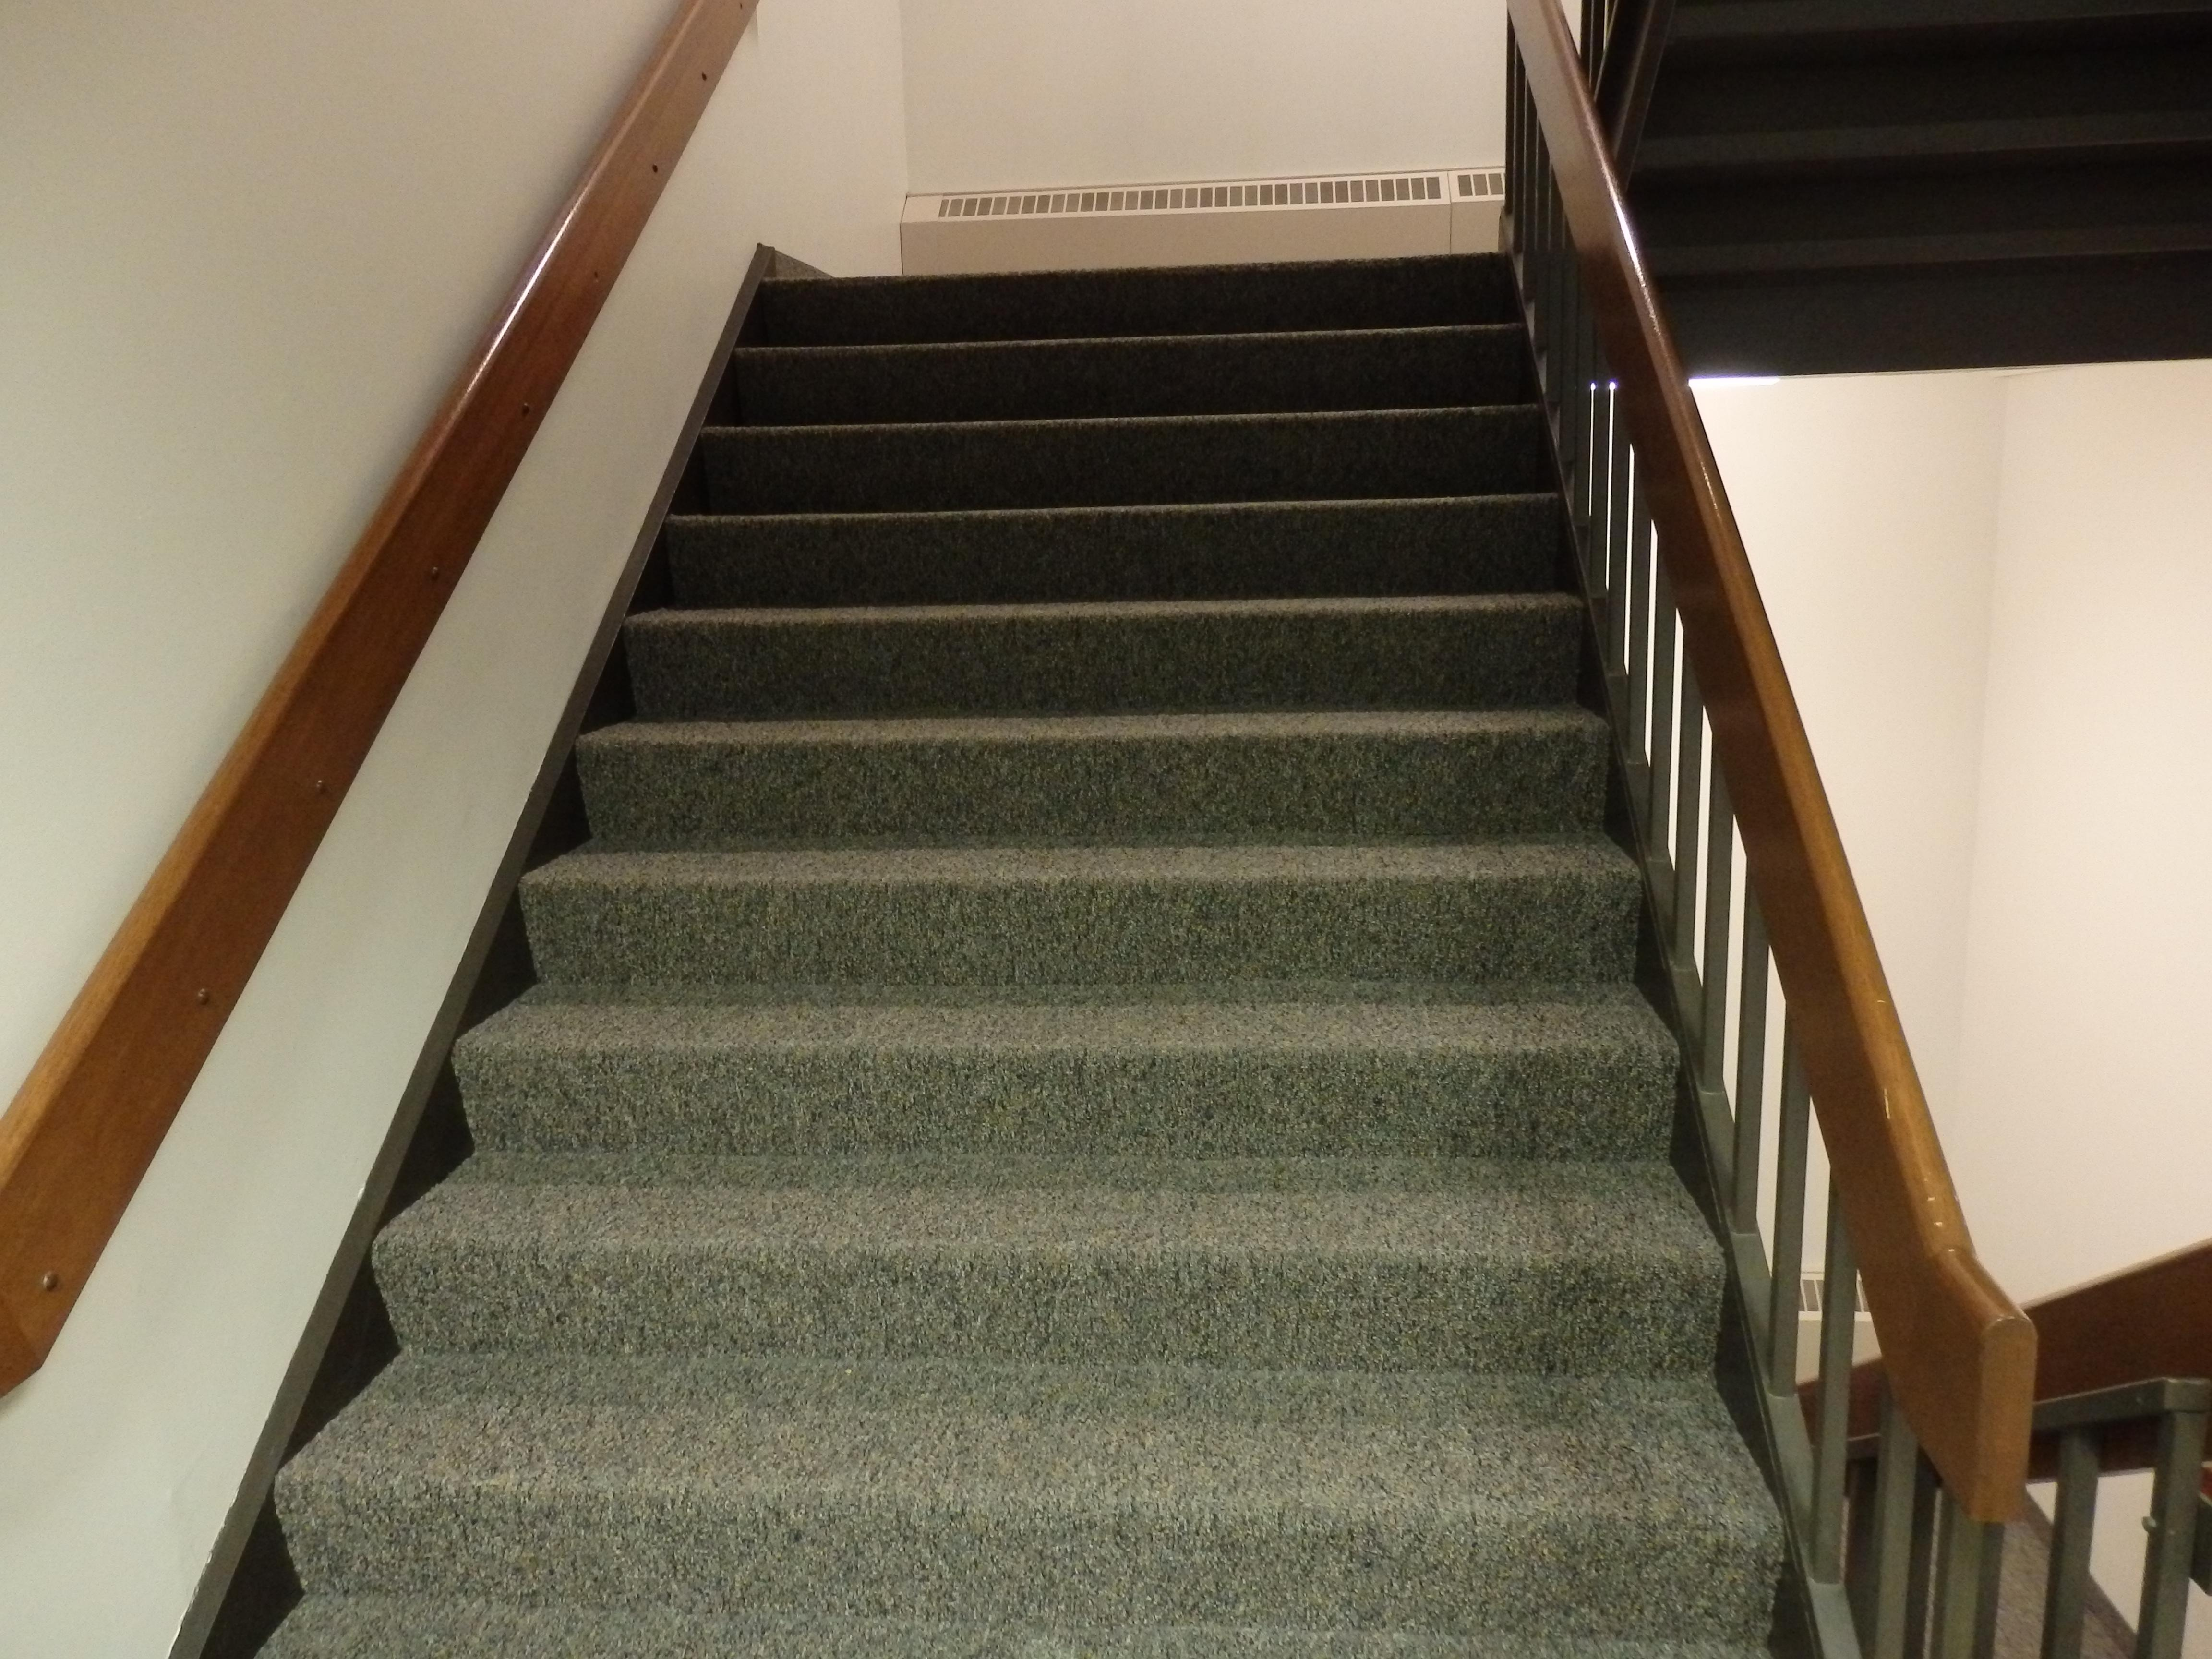stairs_up: (294, 206, 1670, 1588)
